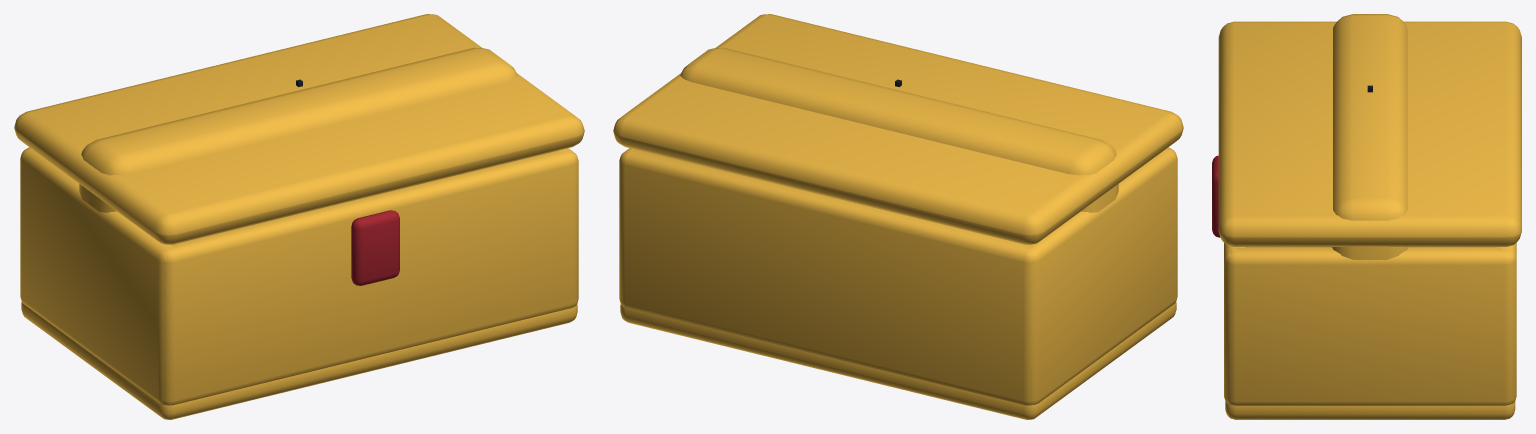
The model's file is LuckyCrax_FX_IMPORT.fbx.
3 views of the same model, side by side, from view 1: azimuth 30°, elevation 25°; view 2: azimuth 150°, elevation 25°; view 3: azimuth 270°, elevation 25° (orthographic).
Parts seen in each view (by area): view 1: LFX_ChestFront, LFX_Lid, LFX_ChestLeft, LFX_ReelCase, LFX_ChestFloor, LFX_ChestLock; view 2: LFX_ChestBack, LFX_Lid, LFX_ChestLeft, LFX_ReelCase, LFX_ChestFloor; view 3: LFX_Lid, LFX_ChestRight, LFX_ReelCase, LFX_ChestFloor, LFX_ChestBack, LFX_ChestFront, LFX_ChestLock.
Part boxes in pixels (x1=…): LFX_ChestFront: x1=164, y1=150, x2=578, y2=405; LFX_Lid: x1=14, y1=14, x2=584, y2=244; LFX_ChestLeft: x1=20, y1=148, x2=173, y2=404; LFX_ReelCase: x1=79, y1=47, x2=517, y2=212; LFX_ChestFloor: x1=21, y1=302, x2=577, y2=419; LFX_ChestLock: x1=351, y1=210, x2=399, y2=285; LFX_ChestBack: x1=620, y1=149, x2=1033, y2=405; LFX_Lid: x1=613, y1=14, x2=1183, y2=244; LFX_ChestLeft: x1=1028, y1=148, x2=1177, y2=404; LFX_ReelCase: x1=680, y1=47, x2=1118, y2=212; LFX_ChestFloor: x1=620, y1=302, x2=1176, y2=419; LFX_Lid: x1=1218, y1=21, x2=1521, y2=246; LFX_ChestRight: x1=1226, y1=247, x2=1513, y2=405; LFX_ReelCase: x1=1331, y1=14, x2=1408, y2=259; LFX_ChestFloor: x1=1225, y1=401, x2=1515, y2=419; LFX_ChestBack: x1=1495, y1=243, x2=1516, y2=403; LFX_ChestFront: x1=1224, y1=243, x2=1245, y2=403; LFX_ChestLock: x1=1212, y1=155, x2=1220, y2=237.
Size of the model in its own units: 370 by 198 by 235.
